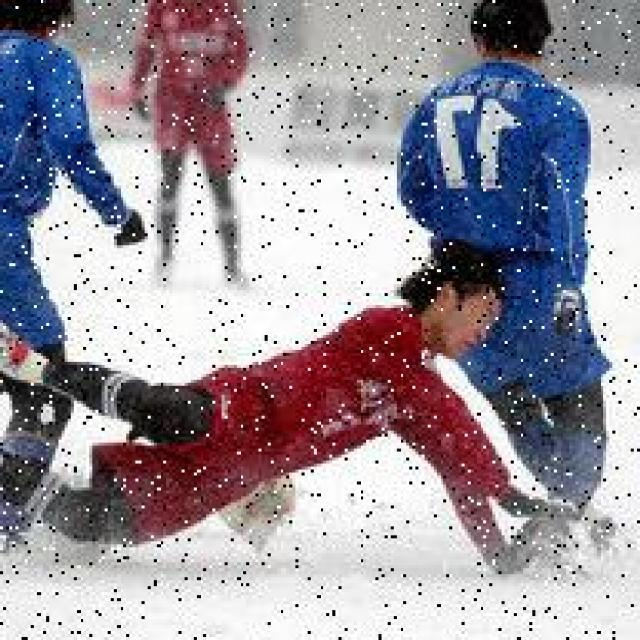fall: (43, 257, 517, 550)
